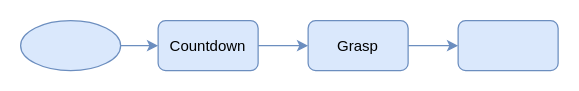
Image size: 579x91. Some labels were removed from this diagram. The shapes that lost their labels are listed below. From the top down, each one's box as (x1, y1, x2, y2) in pixels, then its label:
(19, 19, 121, 71): Search
(457, 19, 558, 71): Release
